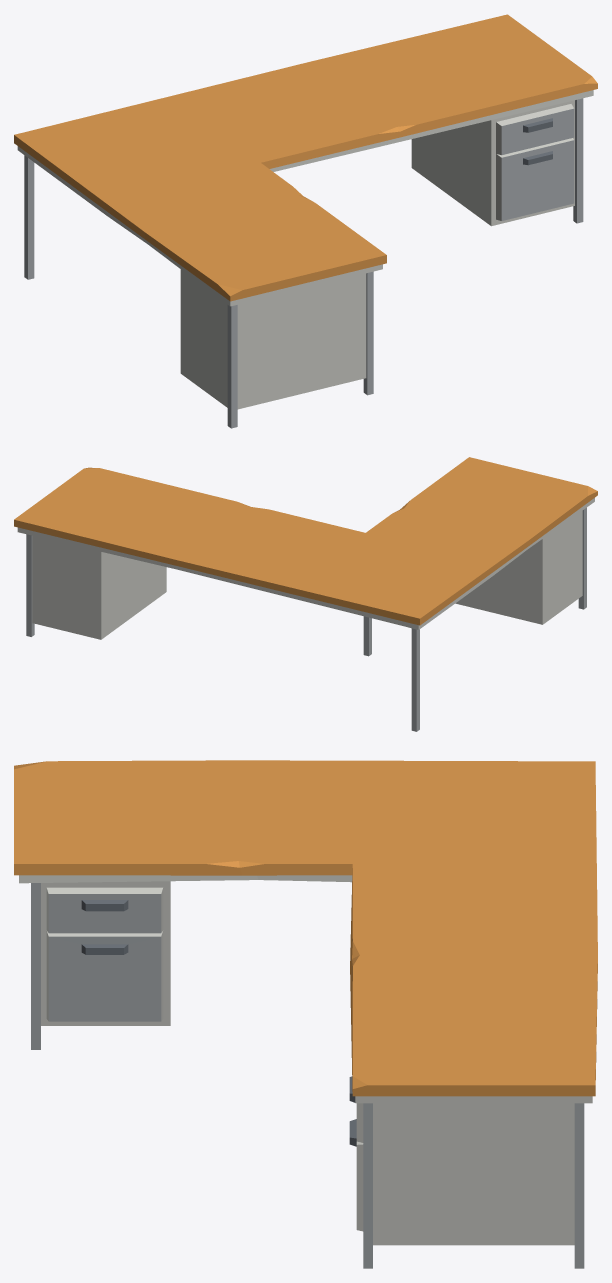
File: Desk_L.FBX
3 views of the same model, one above another, from view 1: azimuth 30°, elevation 25°; view 2: azimuth 150°, elevation 25°; view 3: azimuth 270°, elevation 25° (orthographic). The views are drawn at different scales.
Visible parts, largest first — view 1: L_Desk; view 2: L_Desk; view 3: L_Desk.
Part boxes in pixels (x1,y1,x2,y2): L_Desk: (14,14,597,428); L_Desk: (14,457,597,731); L_Desk: (14,760,597,1268).
Size of the model in its own units: 274 by 75 by 208.
